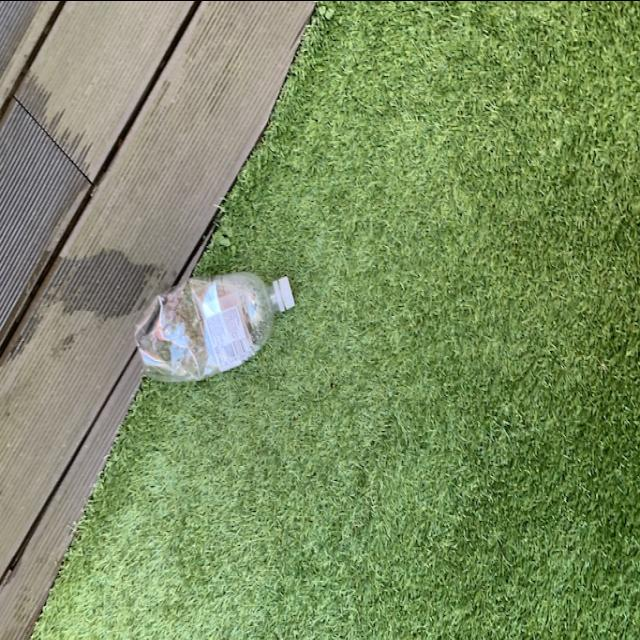PET: (127, 266, 295, 395)
